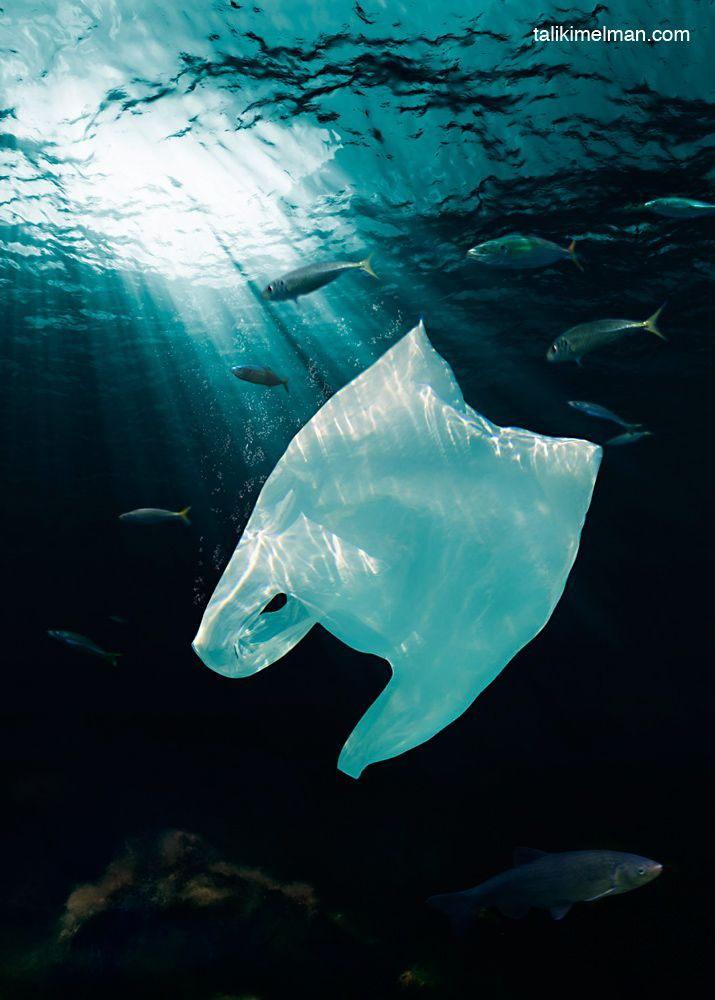fish: (409, 819, 672, 938), (531, 287, 682, 365), (102, 491, 226, 555), (236, 247, 378, 301), (48, 615, 149, 674), (469, 229, 585, 279), (551, 392, 655, 434), (612, 181, 711, 225), (603, 408, 675, 464), (226, 359, 306, 398)
litter: (205, 348, 621, 764)
